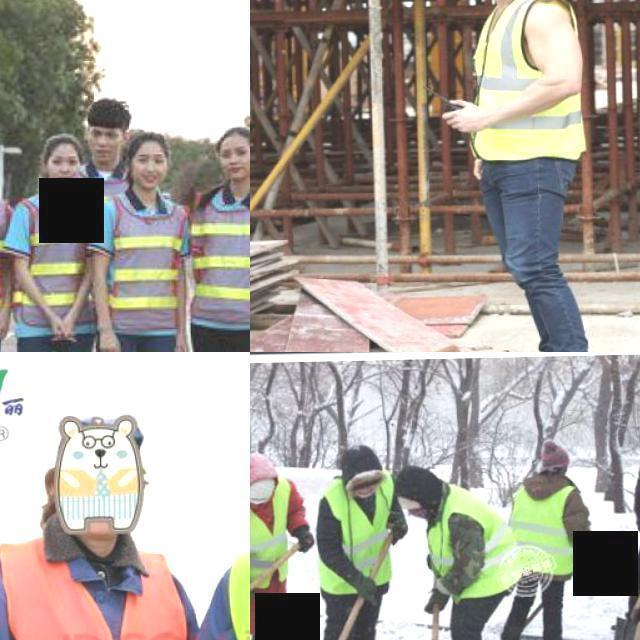vest: (0, 541, 182, 640), (475, 0, 575, 158), (96, 199, 190, 329), (10, 196, 94, 330), (424, 488, 511, 604), (315, 478, 394, 593), (510, 480, 578, 580), (186, 200, 250, 305), (250, 475, 294, 581)
